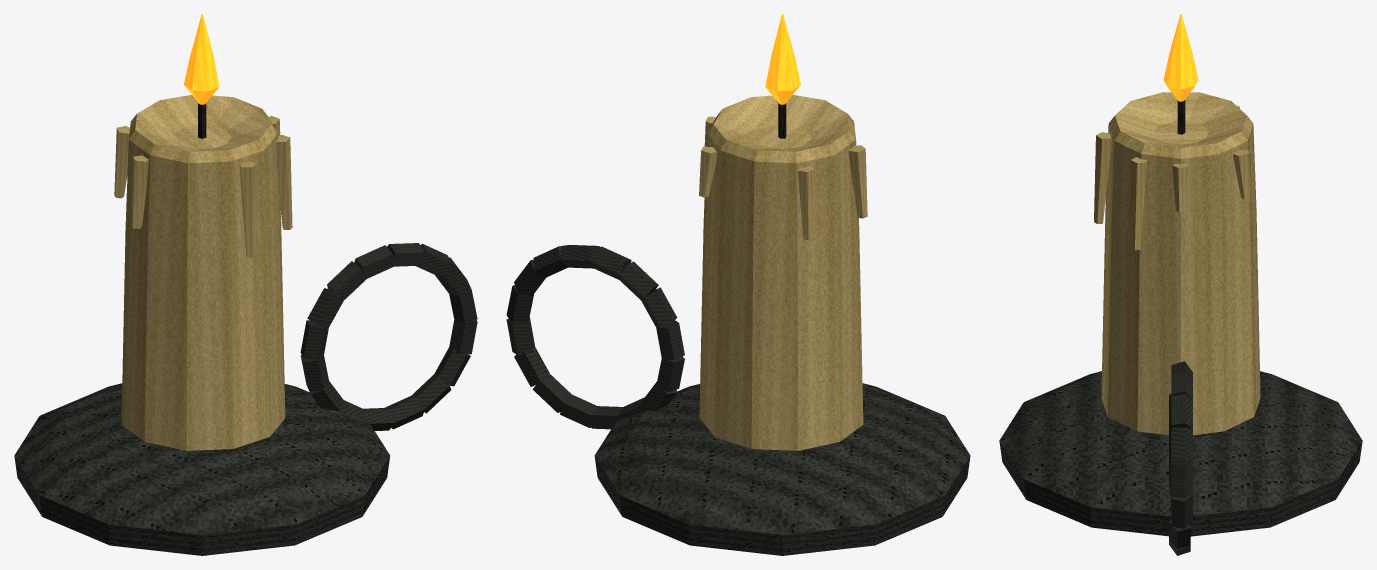
Rendered from blender_firelight_2_lit.glb.
The picture shows the model from 3 angles, left to right: view 1: azimuth 30°, elevation 25°; view 2: azimuth 150°, elevation 25°; view 3: azimuth 270°, elevation 25°; orthographic projection. The views are drawn at different scales.
Parts seen in each view (by area): view 1: blender_firelight_2_lit; view 2: blender_firelight_2_lit; view 3: blender_firelight_2_lit.
Part boxes in pixels (<box>): blender_firelight_2_lit: <box>14,14,477,555</box>; blender_firelight_2_lit: <box>506,14,970,555</box>; blender_firelight_2_lit: <box>999,14,1362,555</box>.
Bounding box in the file's own units: 0.1637 × 0.172 × 0.122.
Materials: 4 (4 with a texture image).
